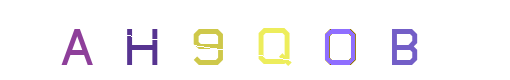0: (289, 0, 369, 80)
9: (215, 0, 295, 80)
A: (71, 0, 151, 80)
B: (337, 0, 417, 80)
H: (186, 0, 266, 80)
Q: (233, 0, 313, 80)
